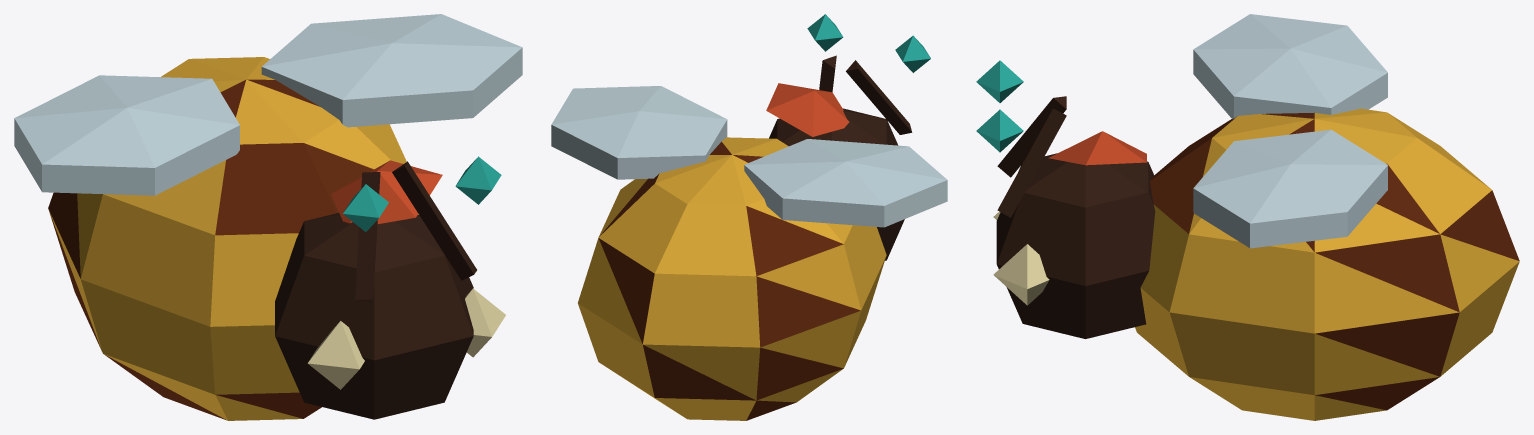
Rendered from skin-bee-maple.glb.
The picture shows the model from 3 angles, left to right: view 1: azimuth 30°, elevation 25°; view 2: azimuth 150°, elevation 25°; view 3: azimuth 270°, elevation 25°; orthographic projection. The views are drawn at different scales.
Size of the model in its own units: 1.45 by 1.03 by 1.59.
